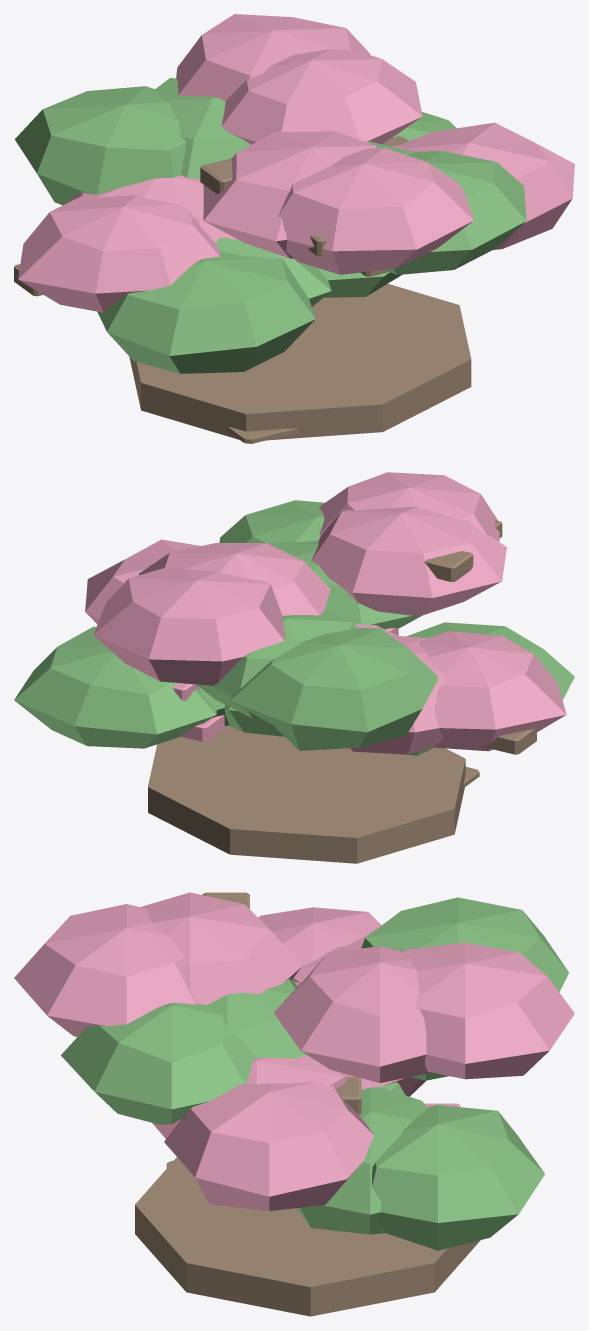
File: b08_azalea_mound.glb
3 renders of one model, top to bottom at view 1: azimuth 30°, elevation 25°; view 2: azimuth 150°, elevation 25°; view 3: azimuth 270°, elevation 25°, orthographic. The views are drawn at different scales.
Visible parts, largest first — view 1: b08_azalea_mound; view 2: b08_azalea_mound; view 3: b08_azalea_mound.
Part boxes in pixels (bbox=[...]): b08_azalea_mound: bbox=[14, 14, 574, 443]; b08_azalea_mound: bbox=[14, 472, 574, 863]; b08_azalea_mound: bbox=[14, 892, 574, 1316].
Bounding box in the file's own units: 1.54 × 0.76 × 1.31.
